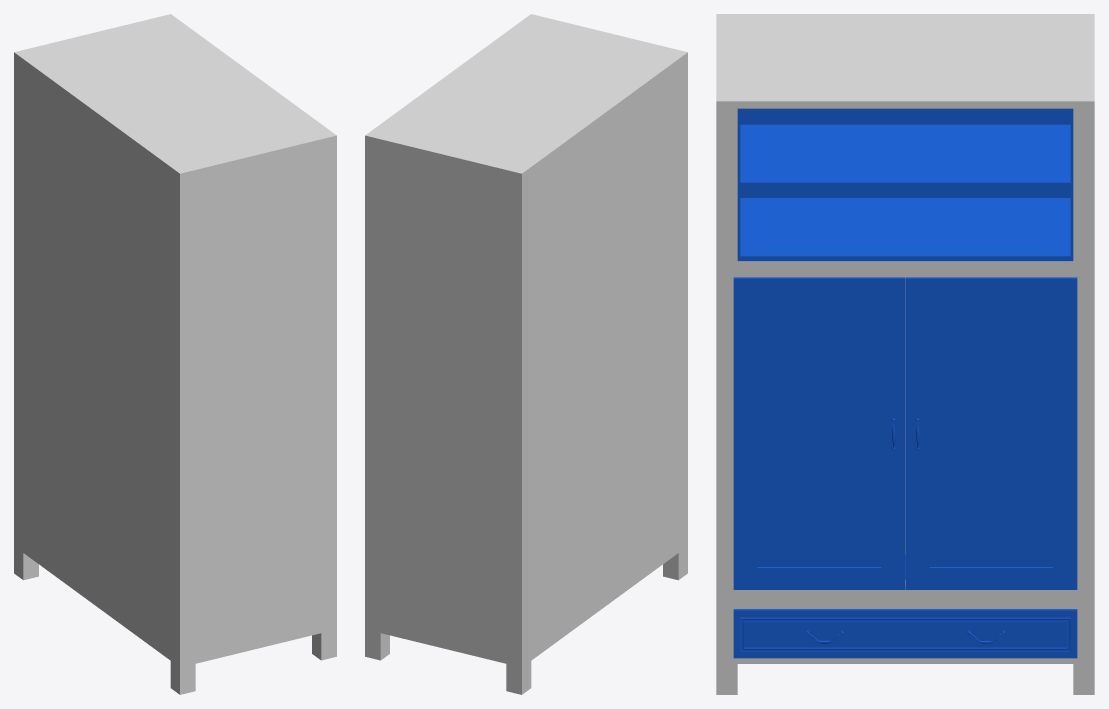
Rendered from Armario_02_Low.fbx.
3 renders of one model, left to right at view 1: azimuth 30°, elevation 25°; view 2: azimuth 150°, elevation 25°; view 3: azimuth 270°, elevation 25°, orthographic. The views are drawn at different scales.
Visible parts, largest first — view 1: Cuerpo_Low; view 2: Cuerpo_Low; view 3: Cuerpo_Low, Cristal_Low (×2), Estanteria_Low, Marco_Low (×2), CajonDoble_Low.
Part boxes in pixels (x1,y1,x2,y2): Cuerpo_Low: (14,14,336,694); Cuerpo_Low: (365,14,687,694); Cuerpo_Low: (716,14,1094,694); Cristal_Low (×2): (757,285,1053,566); Estanteria_Low: (737,108,1073,261); Marco_Low (×2): (733,277,1077,589); CajonDoble_Low: (733,555,1077,658).
Size of the model in its own units: 62.14 by 191 by 110.
